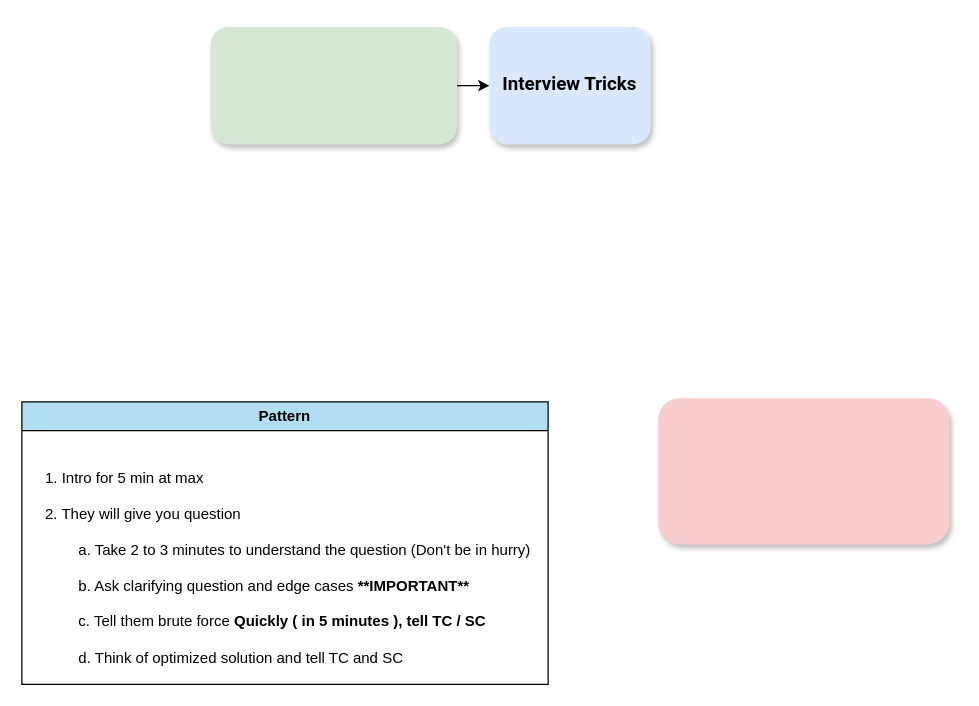
This 979x706 diagram has some shape labels left out. Here are the shapes that lost their labels. From the top down, the centre of each, then its label:
the point at 334,86: DATA STRUCTURE AND ALGORITHM
the point at 804,472: Prefer iterative method over resursive
